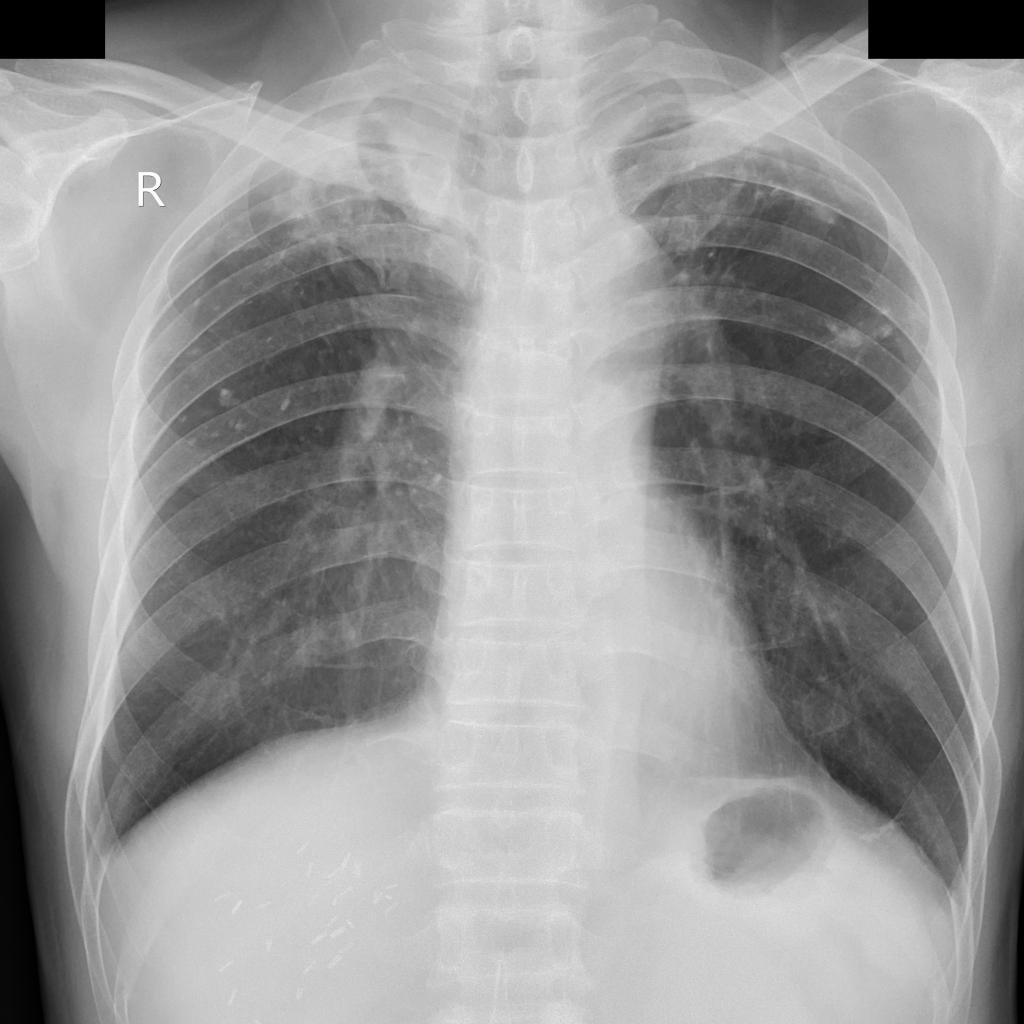Nodule: (185, 266, 278, 359), (176, 380, 300, 449), (395, 437, 443, 502), (823, 319, 863, 348), (280, 390, 306, 413), (227, 418, 254, 440), (219, 389, 243, 409), (186, 438, 198, 448), (181, 414, 187, 426)
